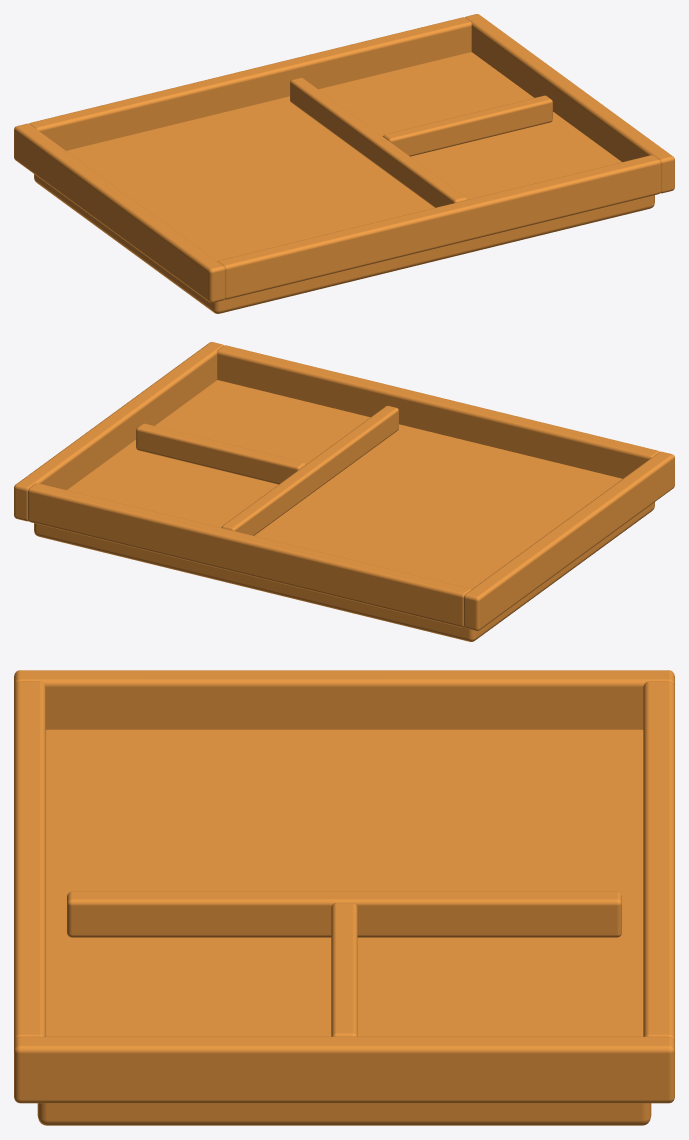
The model's file is prison-complex-builder-inmate-meal-tray-6be6c82d__25696.glb.
3 views of the same model, one above another, from view 1: azimuth 30°, elevation 25°; view 2: azimuth 150°, elevation 25°; view 3: azimuth 270°, elevation 25° (orthographic). The views are drawn at different scales.
Parts seen in each view (by area): view 1: inmate-meal-tray; view 2: inmate-meal-tray; view 3: inmate-meal-tray.
Part boxes in pixels (left/top/right/bottom): inmate-meal-tray: left=14, top=14, right=674, bottom=313; inmate-meal-tray: left=14, top=342, right=674, bottom=641; inmate-meal-tray: left=14, top=670, right=674, bottom=1125.
Bounding box in the file's own units: 0.34 × 0.038 × 0.25.
